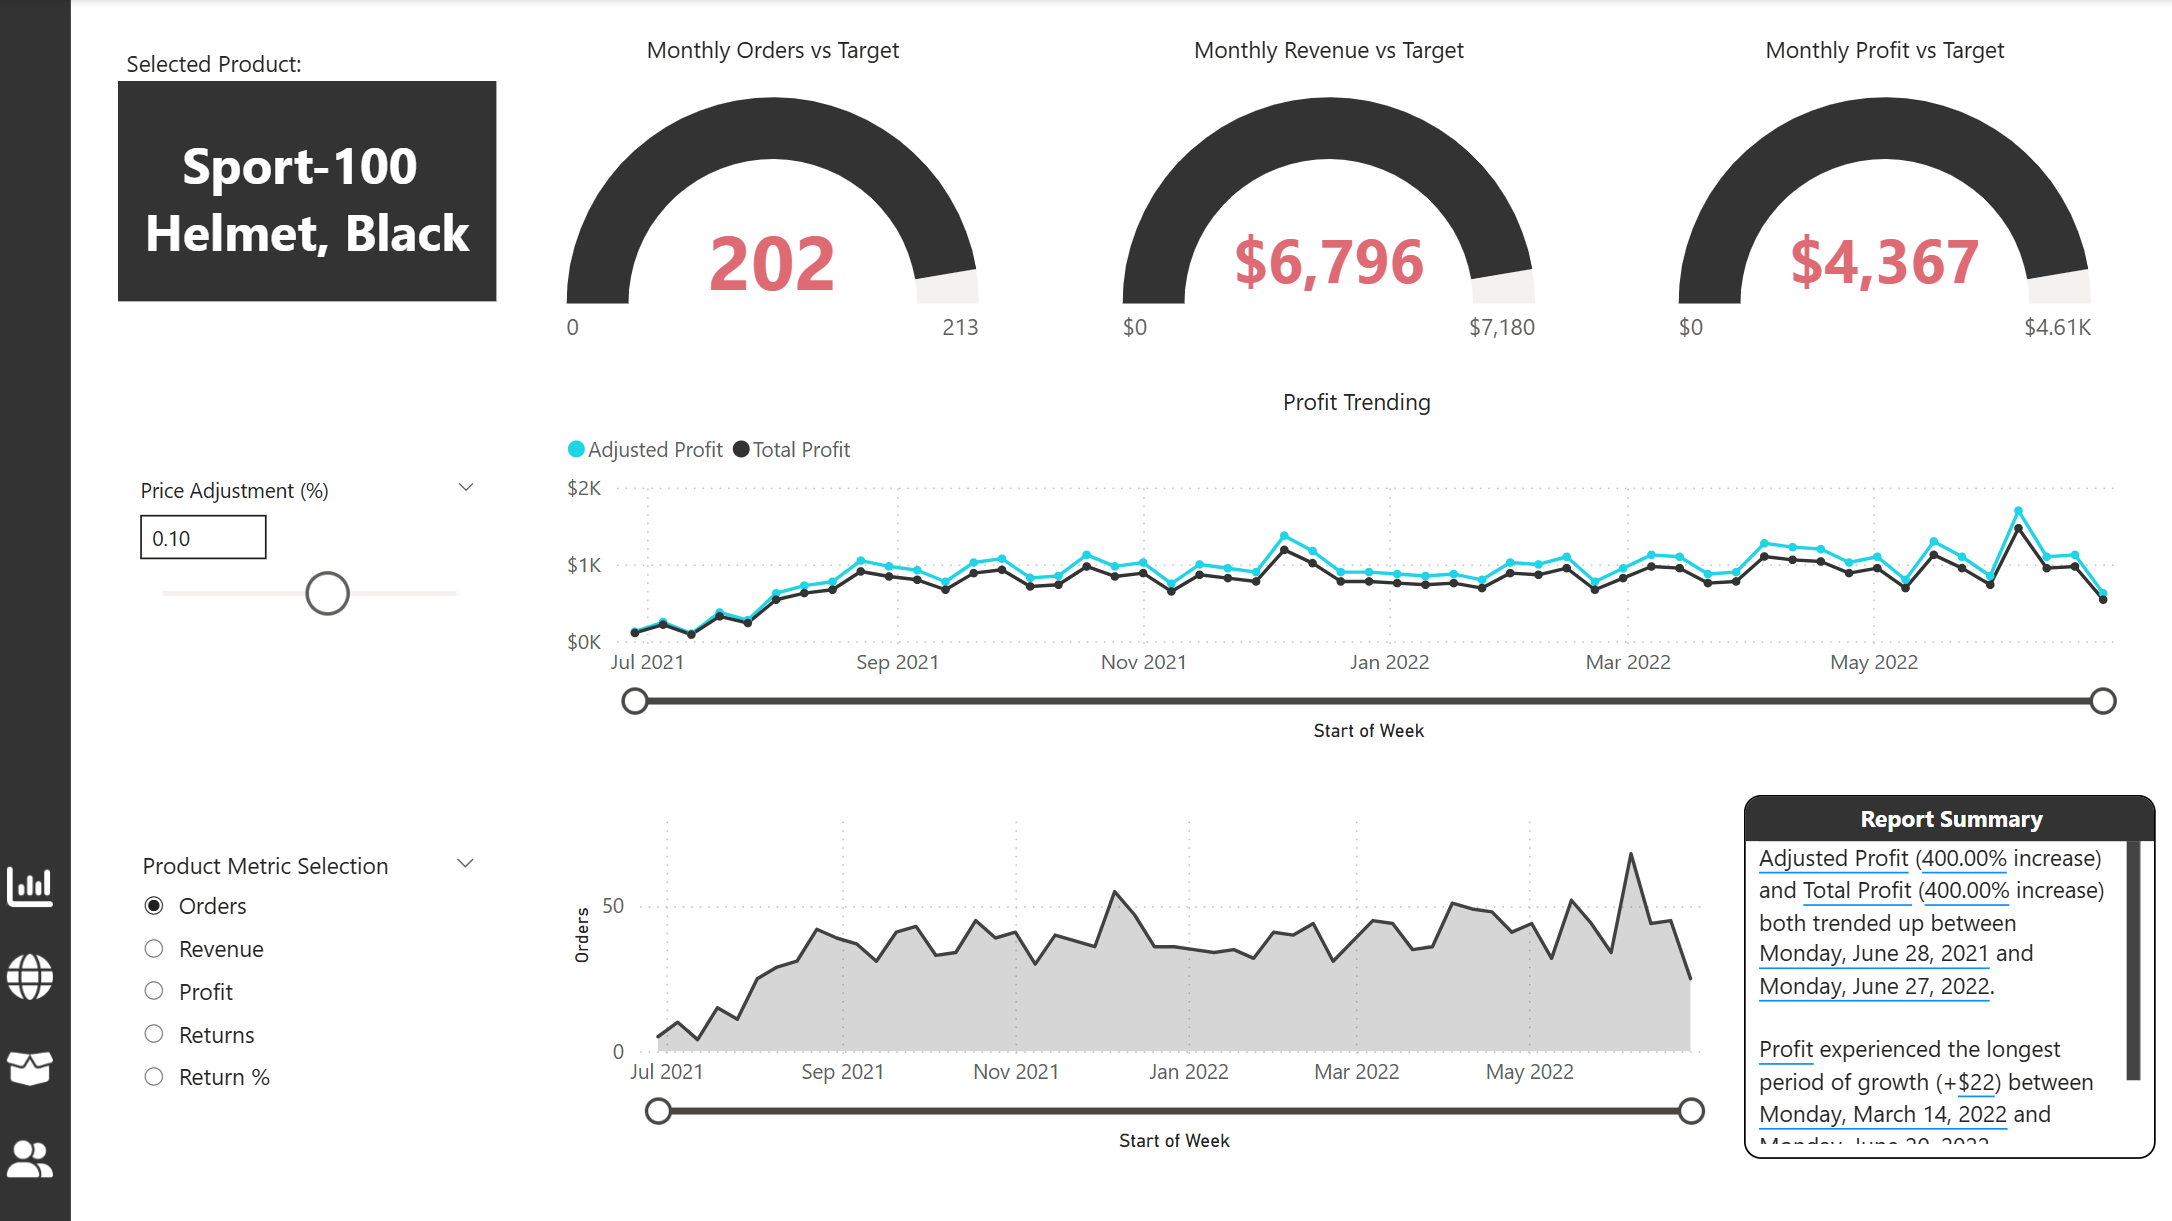

What the dashboard file says about the page in this screenshot:
{"tool":"powerbi","page":{"name":"Product Details","canvas":[1280,720],"ordinal":2},"visuals":[{"type":"shape","box":[0,0,45,720],"z":0},{"type":"actionButton","box":[3.5,502.2,36.3,35.1],"z":0,"group":"g1"},{"type":"gauge","title":"Monthly Orders vs Target","fields":{"Y":["Measure Table.Total Orders"],"MaxValue":["Measure Table.Order Target"]},"box":[330.1,19.9,251.7,206],"z":1000},{"type":"actionButton","box":[3.5,555.3,36.3,35.1],"z":1000,"group":"g1"},{"type":"gauge","title":"Monthly Revenue vs Target","fields":{"Y":["Measure Table.Total Revenue"],"MaxValue":["Measure Table.Revenue Target"]},"box":[655.6,19.9,251.7,206],"z":2000},{"type":"actionButton","box":[3.5,608.3,36.3,35.1],"z":2000,"group":"g1"},{"type":"gauge","title":"Monthly Profit vs Target","fields":{"Y":["Measure Table.Total Profit"],"MaxValue":["Measure Table.Profit Target"]},"box":[981.1,19.9,251.7,206],"z":3000},{"type":"actionButton","box":[3.5,661.4,36.3,35.1],"z":3000,"group":"g1"},{"type":"lineChart","title":"Profit Trending","fields":{"Category":["Calendar Lookup.Date Hierarchy.Start of Year","Calendar Lookup.Date Hierarchy.Start of Month","Calendar Lookup.Date Hierarchy.Start of Week","Calendar Lookup.Date Hierarchy.Date"],"Y":["Measure Table.Adjusted Profit","Measure Table.Total Profit"]},"box":[330.1,226,935.4,213.1],"z":4000},{"type":"areaChart","title":"Return Trending","fields":{"Y":["Measure Table.Total Orders"],"Category":["Calendar Lookup.Date Hierarchy.Start of Year","Calendar Lookup.Date Hierarchy.Start of Month","Calendar Lookup.Date Hierarchy.Start of Week","Calendar Lookup.Date Hierarchy.Date"]},"box":[333.7,466,690.7,213.1],"z":5000},{"type":"card","fields":{"Values":["Min(Product Lookup.ProductName)"]},"box":[72.6,48,221.3,128.8],"z":6000},{"type":"textbox","box":[72.6,23.4,243.5,41],"z":7000},{"type":"group","id":"g1","title":"Navigation Buttons","box":[3.5,502.2,36.3,194.3],"z":8000},{"type":"slicer","fields":{"Values":["Price Adjustment (%).Price Adjustment (%)"]},"box":[72.6,274,221.3,115.9],"z":9000},{"type":"slicer","fields":{"Values":["Product Metric Selection.Product Metric Selection"]},"box":[73.8,492.9,220.1,160.4],"z":10000},{"type":"textbox","title":"Report Summary","box":[1024.4,466,241.2,213.1],"z":11000}]}

Visuals, with their boxes on the page's 1280x720 design canvas (x1, y1, x2, y2). These are canvas units, not pixel positions in the 2172x1221 screenshot, which may show the page scaled, cropped or inside an application window:
shape: <region>0, 0, 45, 720</region>
actionButton: <region>4, 502, 40, 537</region>
"Monthly Orders vs Target" gauge: <region>330, 20, 582, 226</region>
actionButton: <region>4, 555, 40, 590</region>
"Monthly Revenue vs Target" gauge: <region>656, 20, 907, 226</region>
actionButton: <region>4, 608, 40, 643</region>
"Monthly Profit vs Target" gauge: <region>981, 20, 1233, 226</region>
actionButton: <region>4, 661, 40, 696</region>
"Profit Trending" lineChart: <region>330, 226, 1266, 439</region>
"Return Trending" areaChart: <region>334, 466, 1024, 679</region>
card - Min(Product Lookup.ProductName): <region>73, 48, 294, 177</region>
textbox: <region>73, 23, 316, 64</region>
"Navigation Buttons" group: <region>4, 502, 40, 696</region>
slicer - Price Adjustment (%).Price Adjustment (%): <region>73, 274, 294, 390</region>
slicer - Product Metric Selection.Product Metric Selection: <region>74, 493, 294, 653</region>
"Report Summary" textbox: <region>1024, 466, 1266, 679</region>
